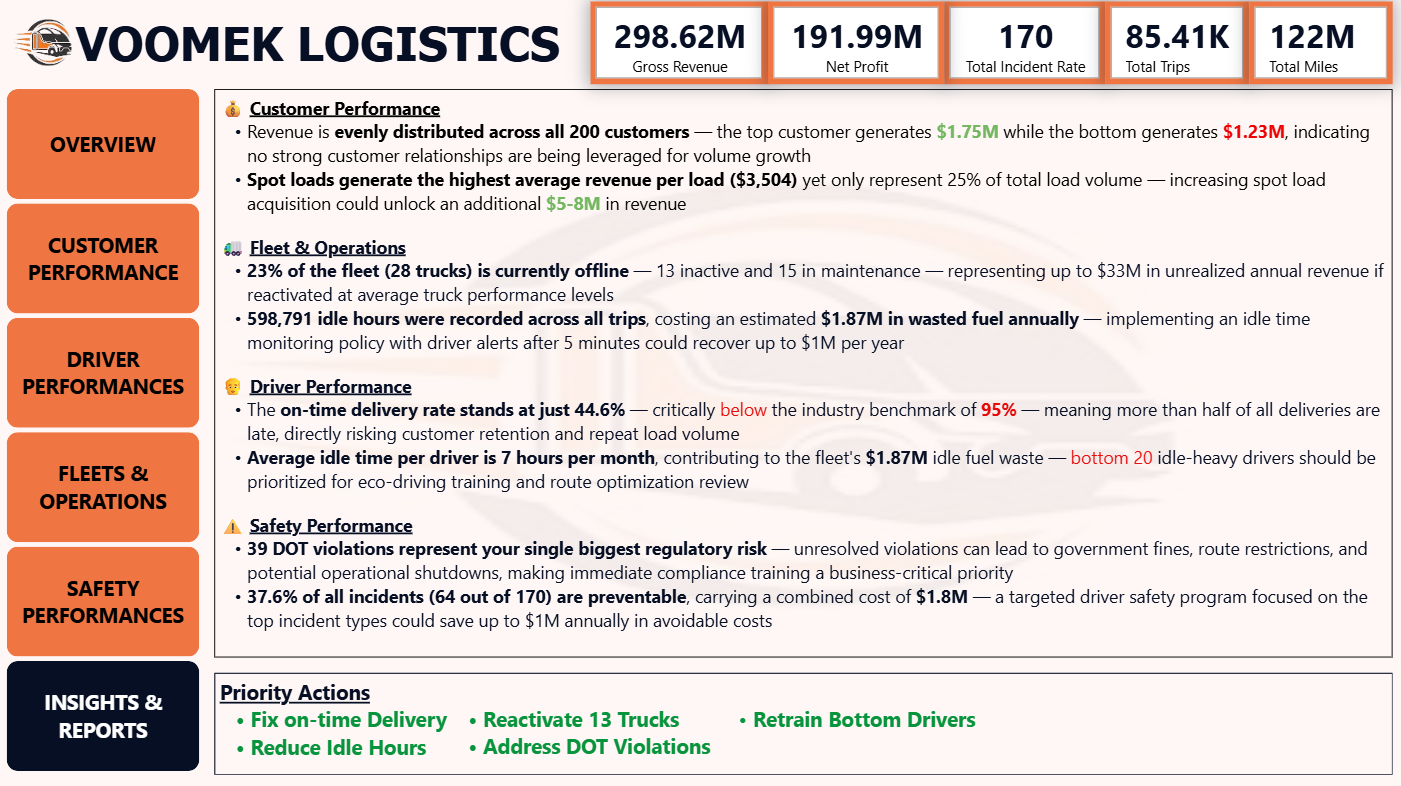

The page's visual inventory and layout, read from the dashboard file:
{"tool":"powerbi","page":{"name":"INSIGHTS & REPORTS","canvas":[1480,720],"ordinal":1},"visuals":[{"type":"card","fields":{"Values":["Sum(Sales.Revenue)"]},"box":[1321.2,11.9,149.6,118.7],"z":0},{"type":"card","fields":{"Values":["Sum(Sales.COGS)"]},"box":[1179.9,11.9,129.4,118.7],"z":1000},{"type":"card","fields":{"Values":["Sum(Sales.Profit)"]},"box":[1038.7,10.7,125.8,119.9],"z":2000},{"type":"card","fields":{"Values":["Customers.Total Customers"]},"box":[756.1,10.7,135.3,119.9],"z":3000},{"type":"textbox","box":[55.8,23.7,486.7,54.6],"z":4000},{"type":"card","fields":{"Values":["Sales.Total Purchase"]},"box":[904.5,11.9,124.6,118.7],"z":5000},{"type":"image","box":[0,1.2,92.6,76],"z":6000},{"type":"textbox","box":[17,84.8,282.7,621.9],"z":7000},{"type":"textbox","box":[307.5,141.3,1163.4,565.3],"z":8000},{"type":"pageNavigator","box":[576.9,10.7,161.4,119.9],"z":9000}]}

Visuals, with their boxes on the page's 1480x720 design canvas (x1, y1, x2, y2). These are canvas units, not pixel positions in the 1401x786 screenshot, which may show the page scaled, cropped or inside an application window:
card - Sum(Sales.Revenue): x1=1321, y1=12, x2=1471, y2=131
card - Sum(Sales.COGS): x1=1180, y1=12, x2=1309, y2=131
card - Sum(Sales.Profit): x1=1039, y1=11, x2=1164, y2=131
card - Customers.Total Customers: x1=756, y1=11, x2=891, y2=131
textbox: x1=56, y1=24, x2=542, y2=78
card - Sales.Total Purchase: x1=904, y1=12, x2=1029, y2=131
image: x1=0, y1=1, x2=93, y2=77
textbox: x1=17, y1=85, x2=300, y2=707
textbox: x1=308, y1=141, x2=1471, y2=707
pageNavigator: x1=577, y1=11, x2=738, y2=131
